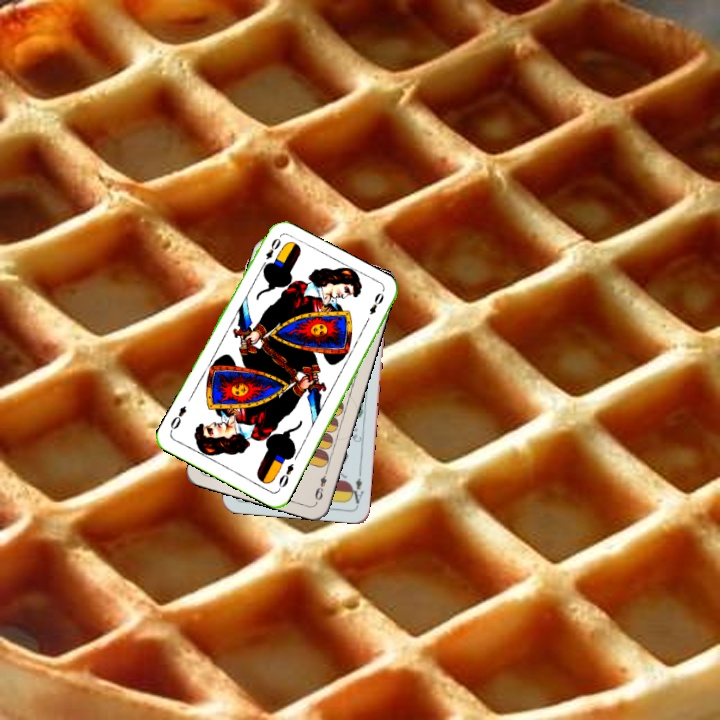E9: (310, 465, 331, 503)
EA: (346, 467, 366, 506)
EO: (257, 234, 283, 271), (274, 459, 297, 493)
